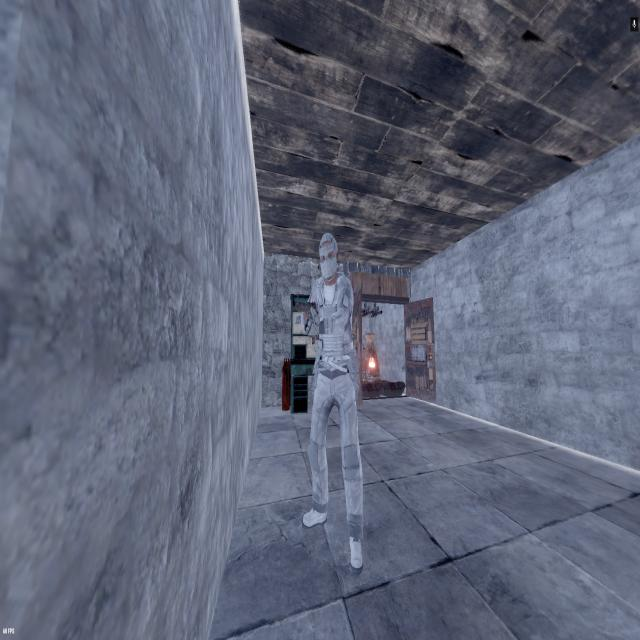Player: (297, 228, 368, 578)
